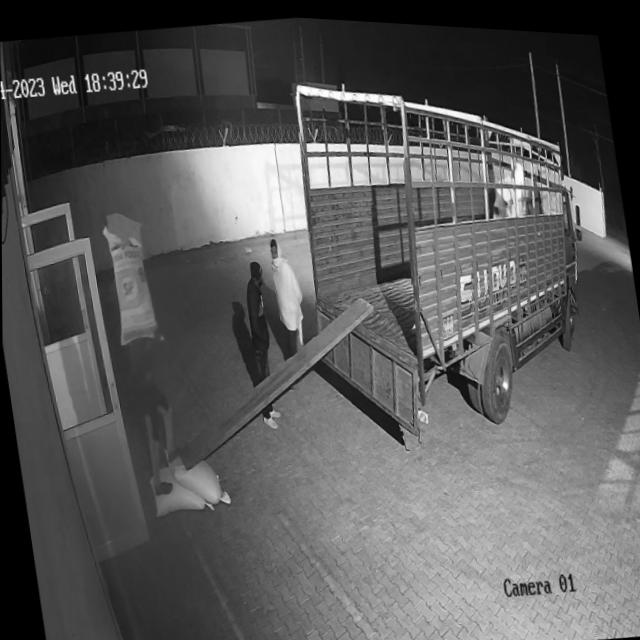sack: (101, 219, 161, 344), (164, 438, 229, 509), (148, 457, 206, 517)
